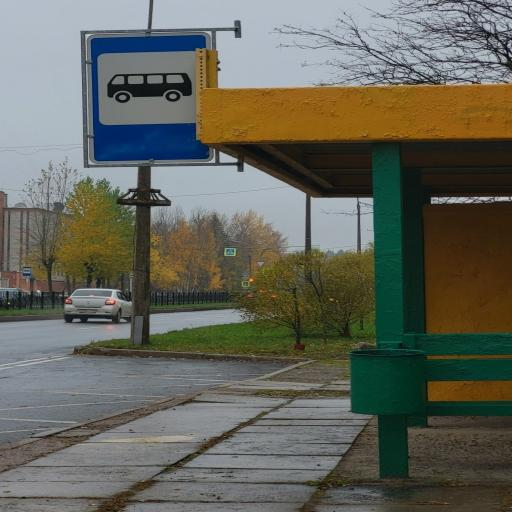book: (198, 85, 511, 477)
bottle: (64, 289, 131, 323), (0, 288, 26, 307)
ramp: (0, 320, 281, 443)
